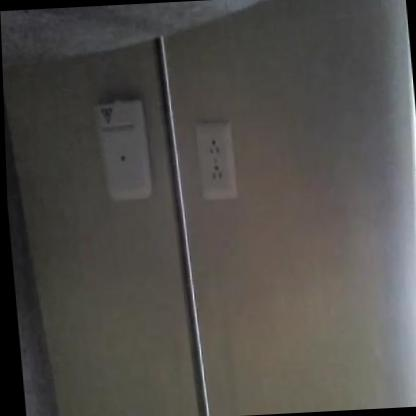OUTLET: (194, 124, 237, 200)
